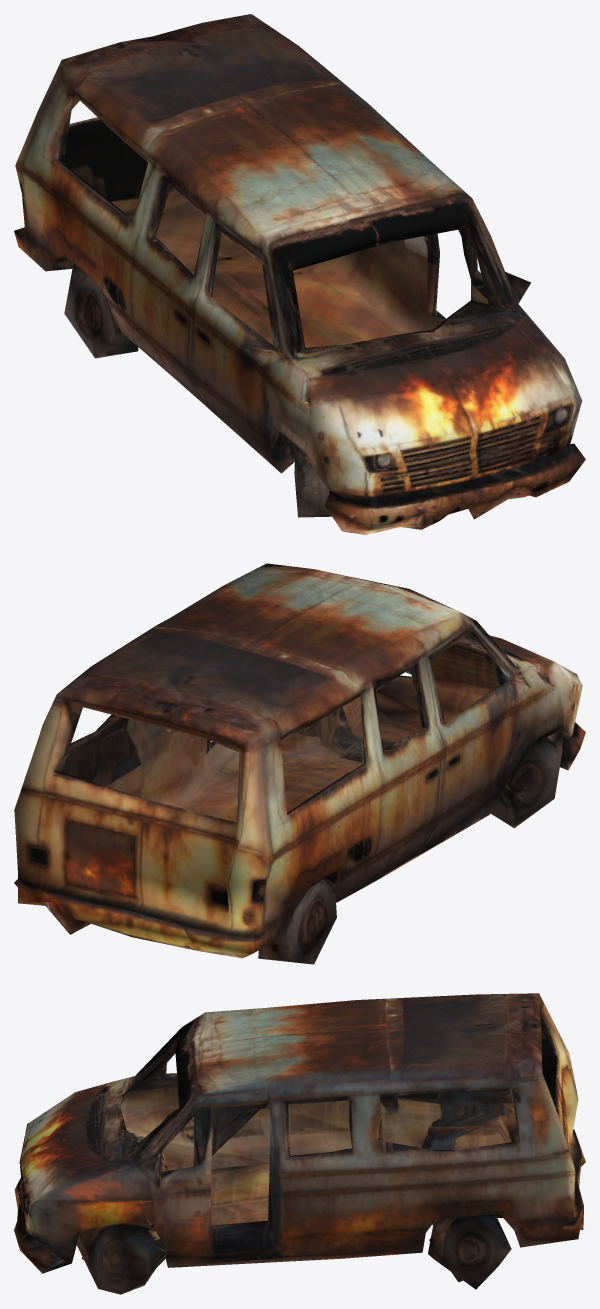
Rendered from burntVan.glb.
3 views of the same model, one above another, from view 1: azimuth 30°, elevation 25°; view 2: azimuth 150°, elevation 25°; view 3: azimuth 270°, elevation 25° (orthographic). The views are drawn at different scales.
Bounding box in the file's own units: 0.9201 × 0.8766 × 1.99.
1 material, 1 textured.
